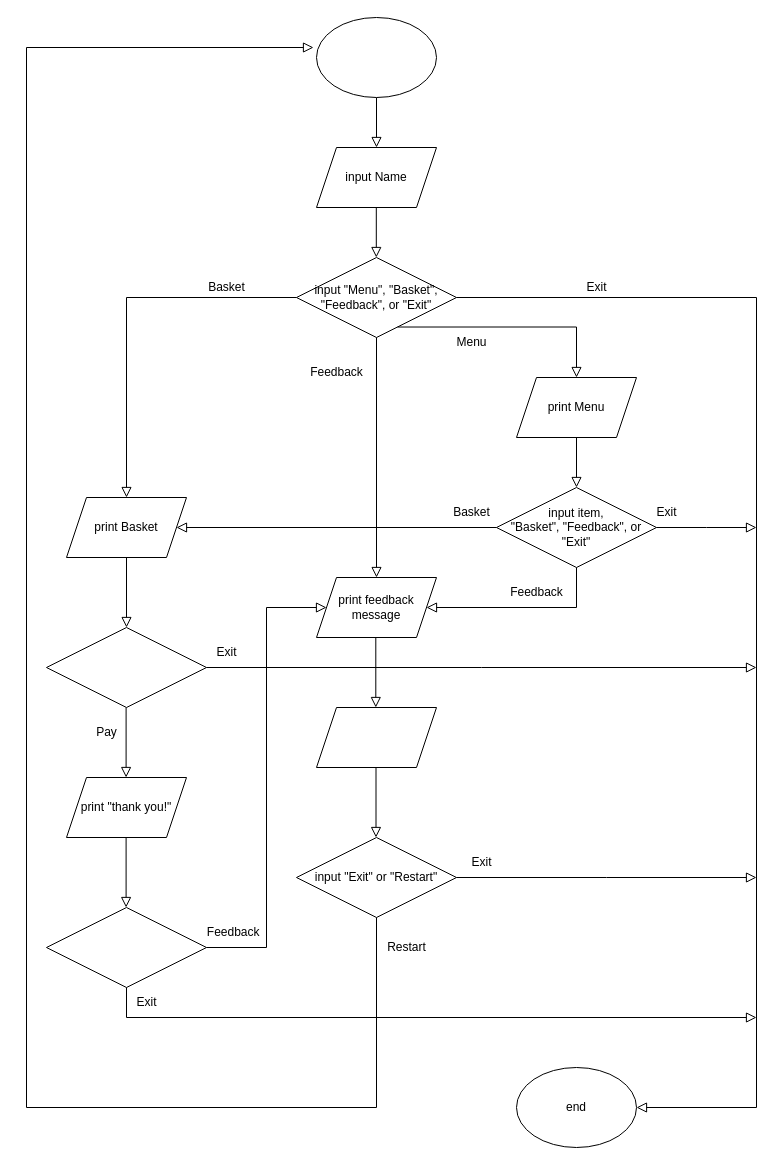
This 784x1165 diagram has some shape labels left out. Here are the shapes that lost their labels. From the top down, the centre of each, then its label:
pixel 376 57: start
pixel 126 667: input "Pay" or "Exit"
pixel 376 737: input feedback
pixel 126 947: input "Feedback" or "Exit"
